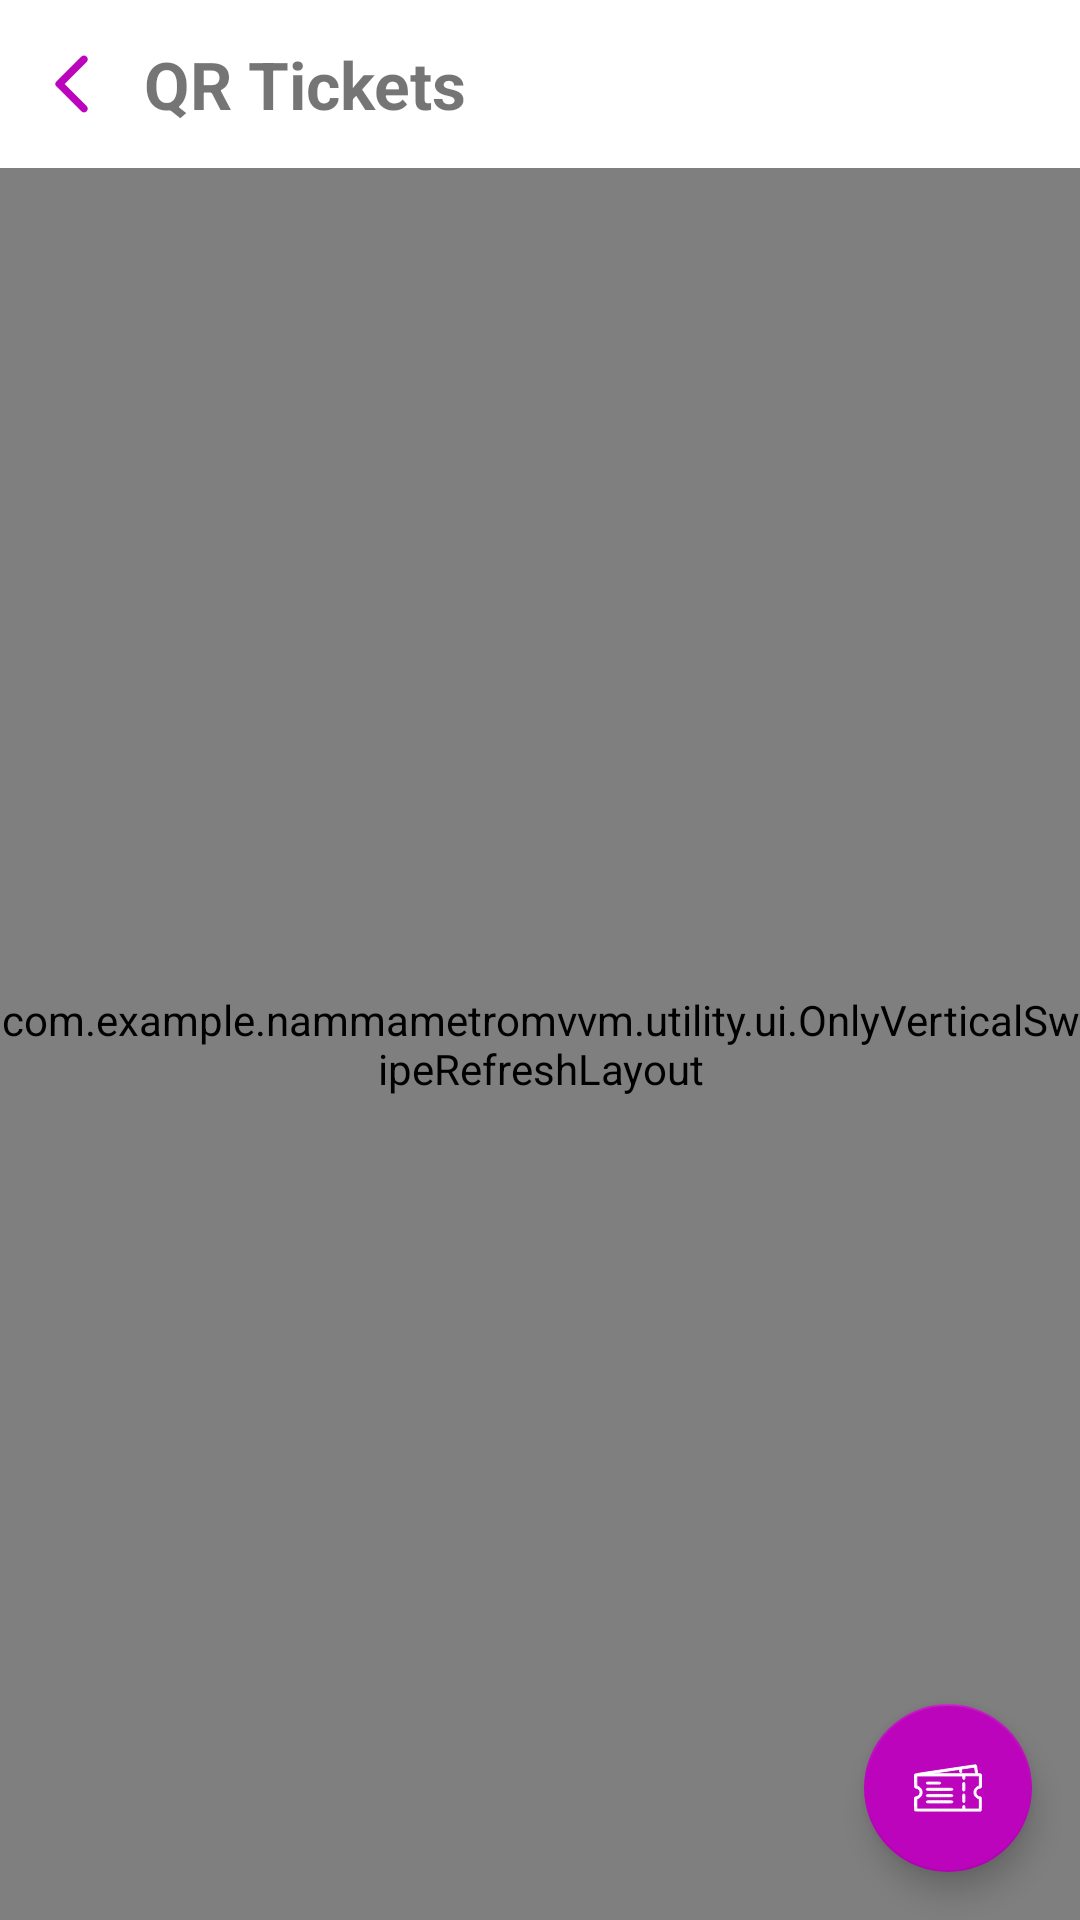

Screen size 1080x1920. Icon name, then its center in pixels as (x=x, y=y):
Purchase New Ticket: (x=948, y=1788)
